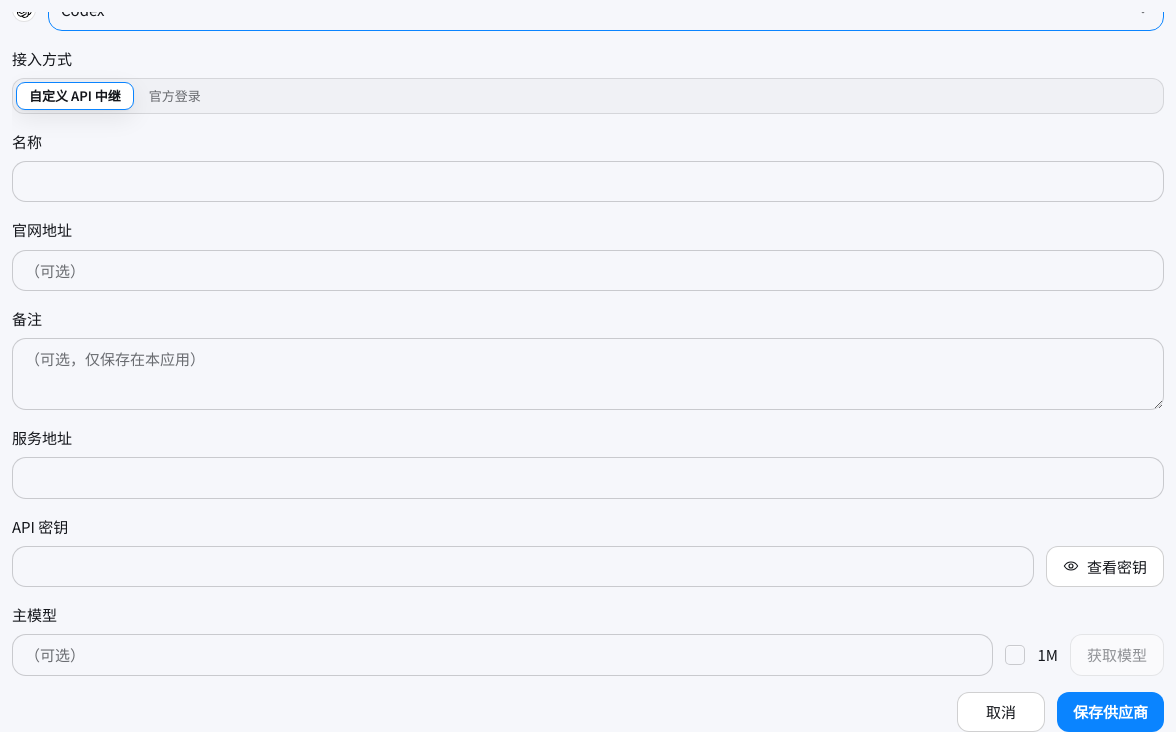
Test: ProviderEditor › passes the entered API key to the model-list request
(page scrolled)
In the field labelled "名称": (588, 182) [12, 161, 1164, 202], type "本机网关"
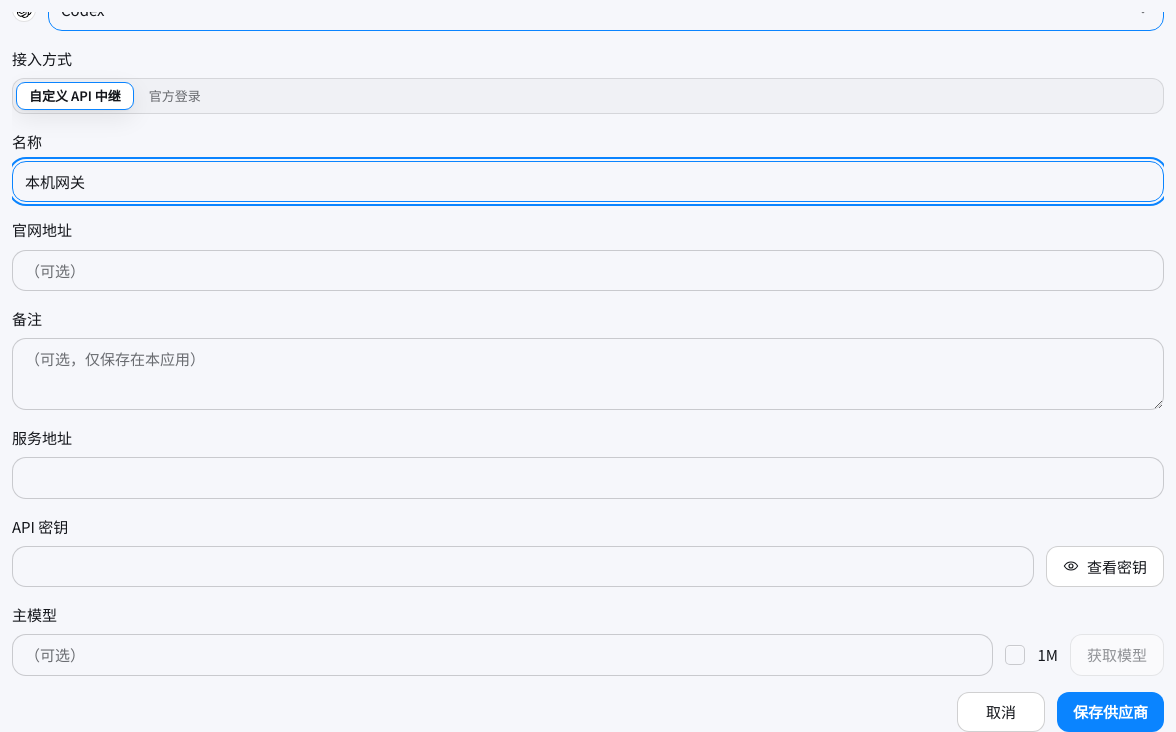
In the field named "服务地址": (588, 478) [12, 457, 1164, 499], type "https://gateway.example"
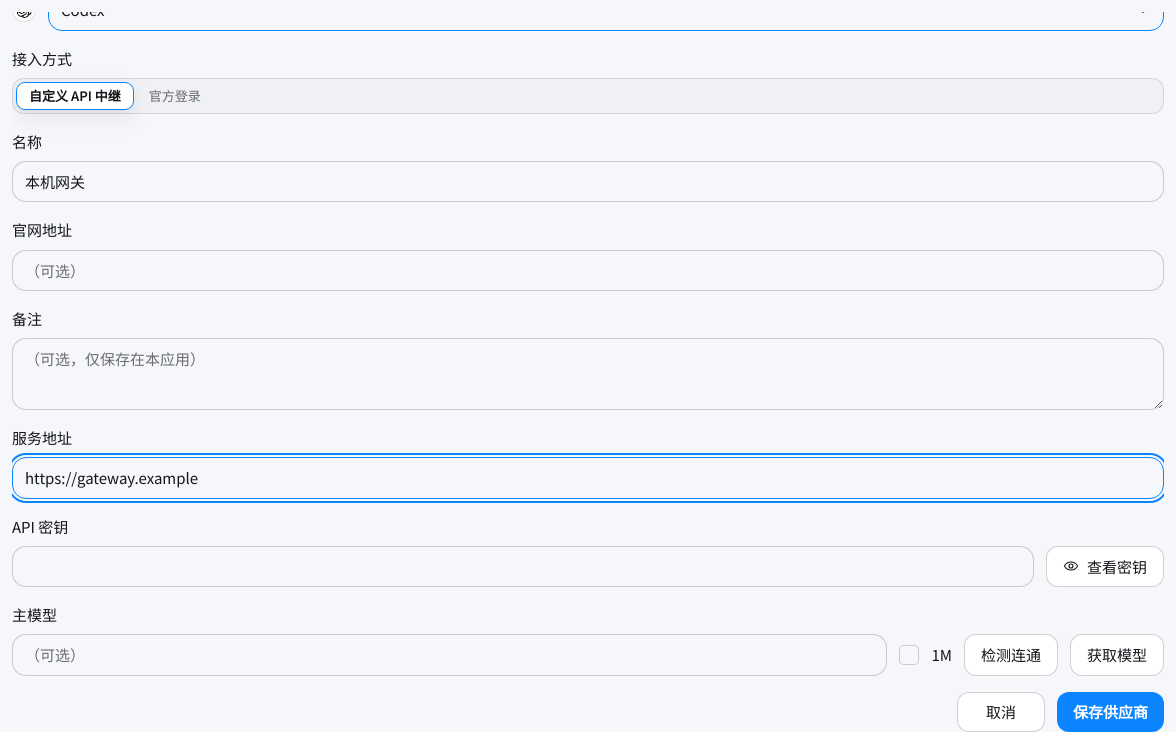
In the password field named "API 密钥": (523, 566) [12, 546, 1034, 587], type "sk-entered-key"
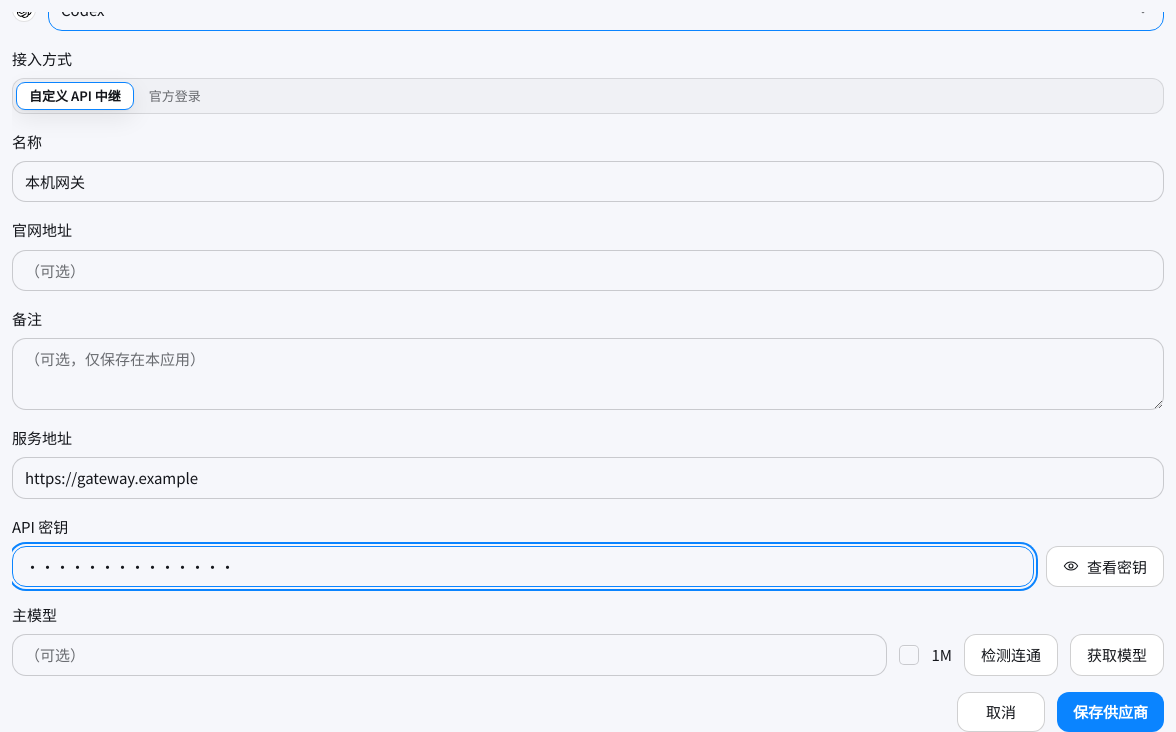
Click the button "获取模型": (1117, 655) [1070, 634, 1164, 676]
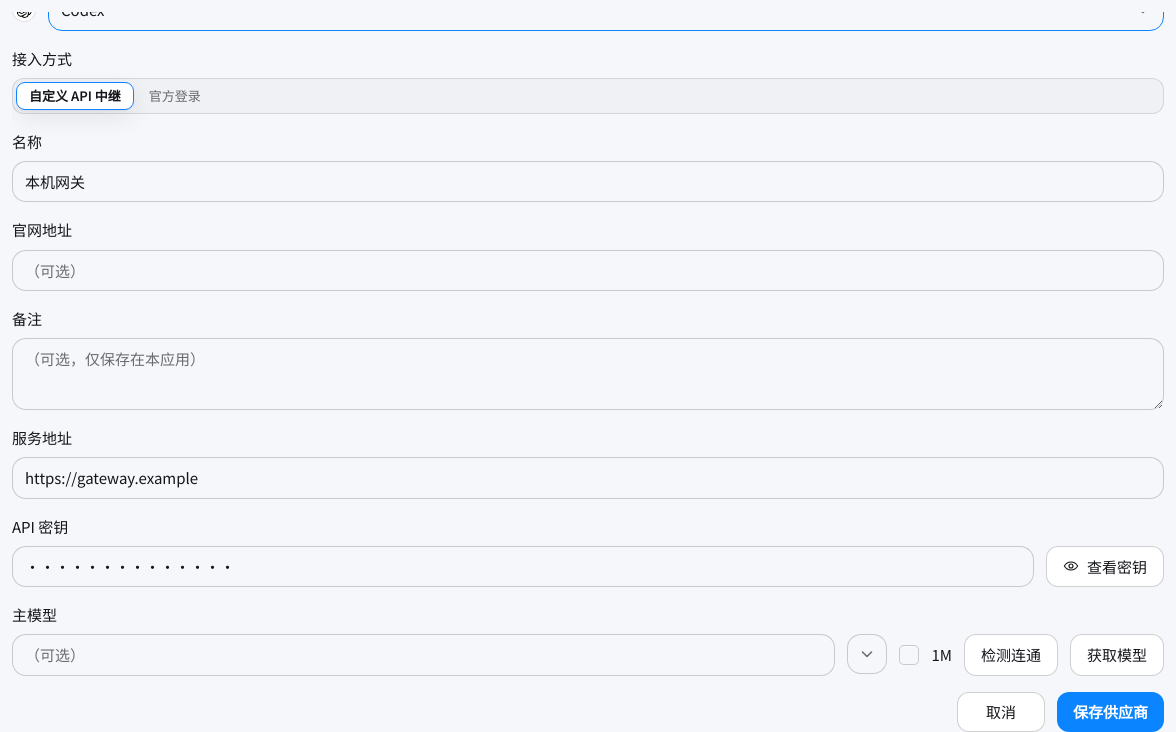
Now the button named "选择模型" is shown, box [848, 634, 888, 674]
